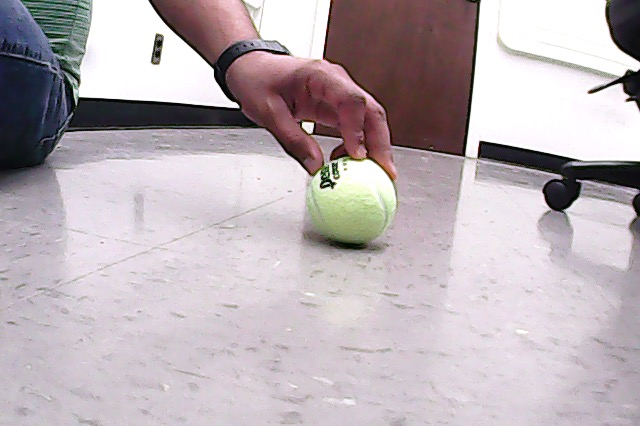ball: (307, 152, 400, 249)
